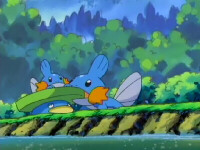mudkip: (69, 53, 142, 109), (29, 59, 71, 92)
